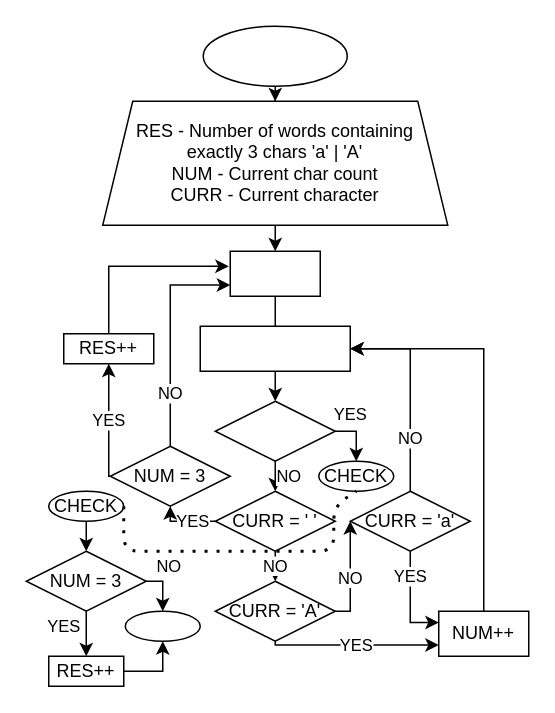
The diagram is 555 pixels wide and 713 high, and some of its shapes have lost their labels. Here are the shapes that lost their labels. From the top down, the centre of each, then its label:
At (274,55): "START".
At (274,273): "NUM = 0".
At (274,348): "NEXT_CHAR".
At (274,430): "CURR = '.'".
At (162,625): "END".
